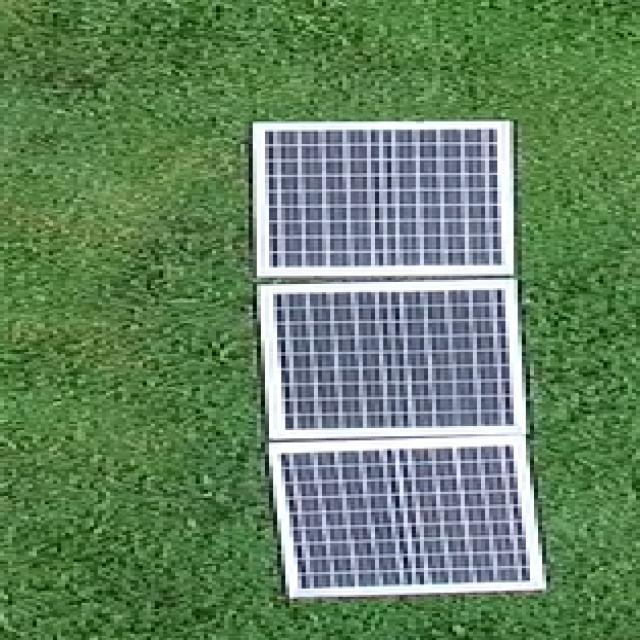no faulty: (266, 284, 528, 438), (256, 118, 507, 272), (275, 448, 535, 591)
